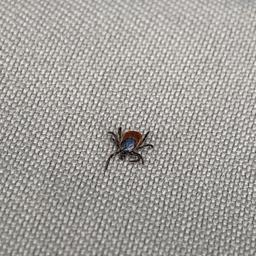Ixodes scapularis: (105, 126, 154, 171)
